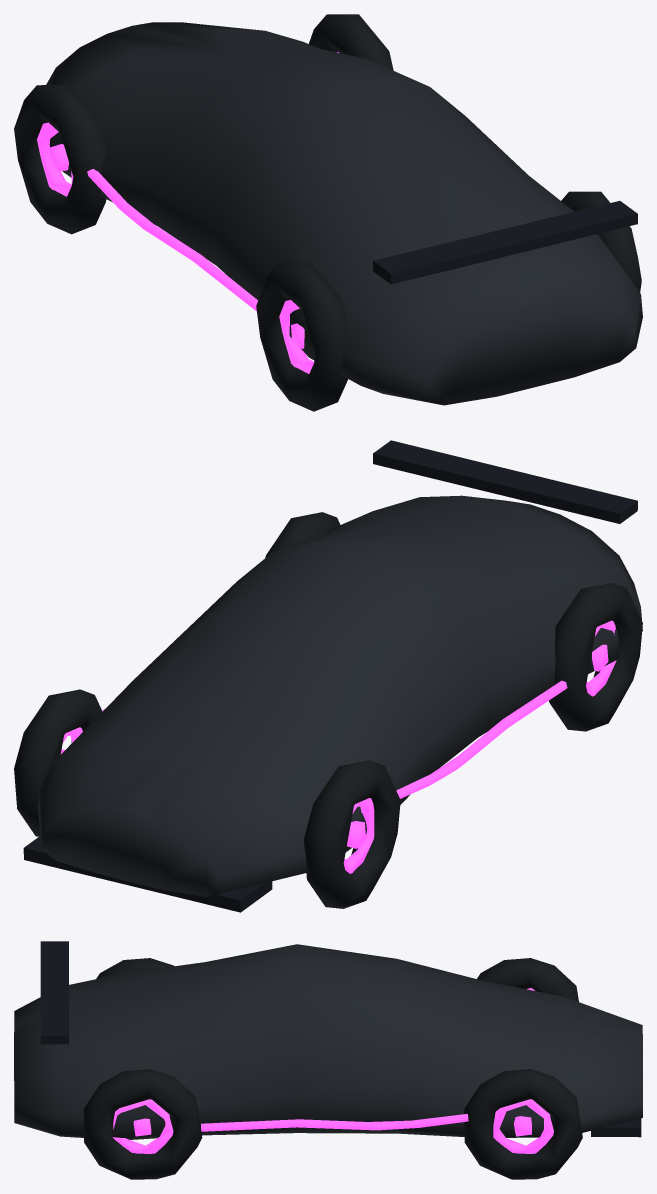
Rendered from AfareetKing_LOD2.fbx.
3 renders of one model, top to bottom at view 1: azimuth 30°, elevation 25°; view 2: azimuth 150°, elevation 25°; view 3: azimuth 270°, elevation 25°, orthographic. The views are drawn at different scales.
Visible parts, largest first — view 1: AfareetKing_Body_LOD2, AfareetKing_Wheel_FL_LOD2, AfareetKing_Wheel_RL_LOD2, AfareetKing_Wheel_FR_LOD2, AfareetKing_Wheel_RR_LOD2; view 2: AfareetKing_Body_LOD2, AfareetKing_Wheel_FL_LOD2, AfareetKing_Wheel_RL_LOD2, AfareetKing_Wheel_FR_LOD2, AfareetKing_Wheel_RR_LOD2; view 3: AfareetKing_Body_LOD2, AfareetKing_Wheel_FR_LOD2, AfareetKing_Wheel_RR_LOD2, AfareetKing_Wheel_FL_LOD2, AfareetKing_Wheel_RL_LOD2.
Boxes of the visible parts, box(x1,y1,x2,y2) form: AfareetKing_Body_LOD2: box(46, 22, 642, 405); AfareetKing_Wheel_FL_LOD2: box(14, 85, 106, 234); AfareetKing_Wheel_RL_LOD2: box(256, 262, 348, 411); AfareetKing_Wheel_FR_LOD2: box(309, 14, 393, 70); AfareetKing_Wheel_RR_LOD2: box(561, 191, 641, 292); AfareetKing_Body_LOD2: box(23, 440, 642, 912); AfareetKing_Wheel_FL_LOD2: box(303, 760, 400, 908); AfareetKing_Wheel_RL_LOD2: box(549, 583, 642, 731); AfareetKing_Wheel_FR_LOD2: box(14, 689, 102, 836); AfareetKing_Wheel_RR_LOD2: box(265, 512, 340, 557); AfareetKing_Body_LOD2: box(14, 941, 642, 1139); AfareetKing_Wheel_FR_LOD2: box(464, 1069, 582, 1179); AfareetKing_Wheel_RR_LOD2: box(83, 1069, 202, 1179); AfareetKing_Wheel_FL_LOD2: box(477, 958, 578, 1001); AfareetKing_Wheel_RL_LOD2: box(96, 958, 174, 978).
Size of the model in its own units: 2.15 by 1.36 by 4.59.
